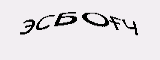З: (60, 2, 80, 33)
М: (100, 10, 117, 32)
С: (35, 1, 59, 33), (118, 15, 130, 37)
У: (76, 3, 98, 29)
